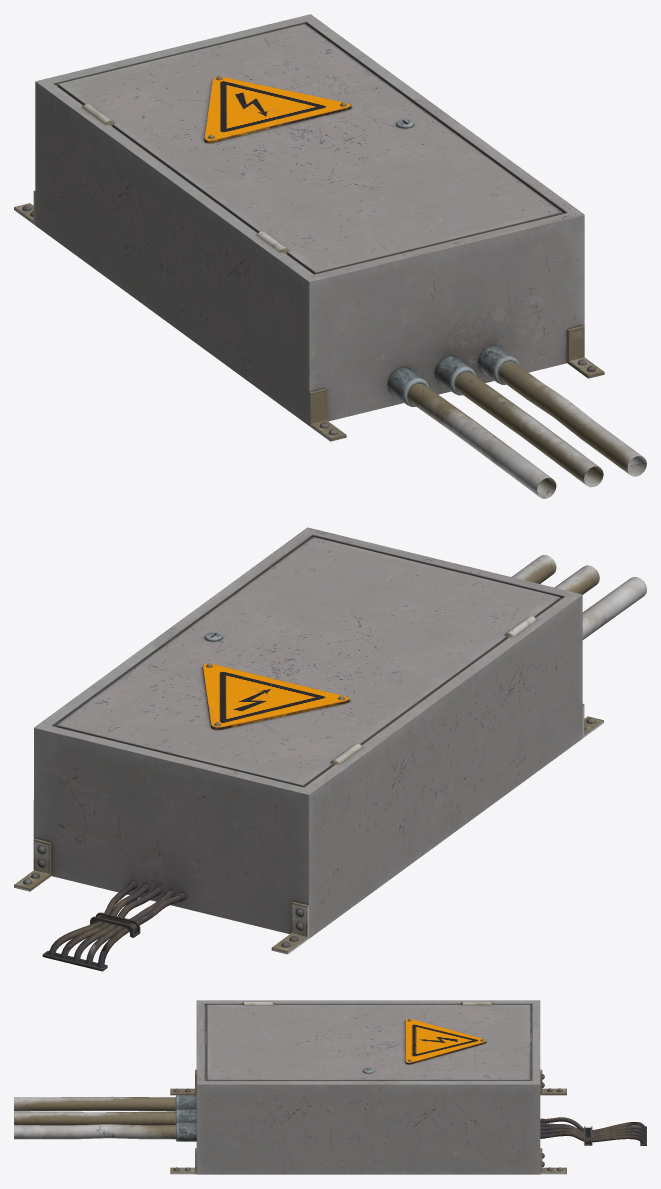
The model's file is electrical_control_panel.glb.
The picture shows the model from 3 angles, top to bottom: view 1: azimuth 30°, elevation 25°; view 2: azimuth 150°, elevation 25°; view 3: azimuth 270°, elevation 25°; orthographic projection. The views are drawn at different scales.
Visible parts, largest first — view 1: Electrical control panel; view 2: Electrical control panel; view 3: Electrical control panel.
Part boxes in pixels (x1,y1,x2,y2): Electrical control panel: [14, 14, 646, 498]; Electrical control panel: [14, 527, 646, 971]; Electrical control panel: [14, 1000, 646, 1174].
Size of the model in its own units: 0.6 by 0.3137 by 1.9.
1 material, 1 textured.
